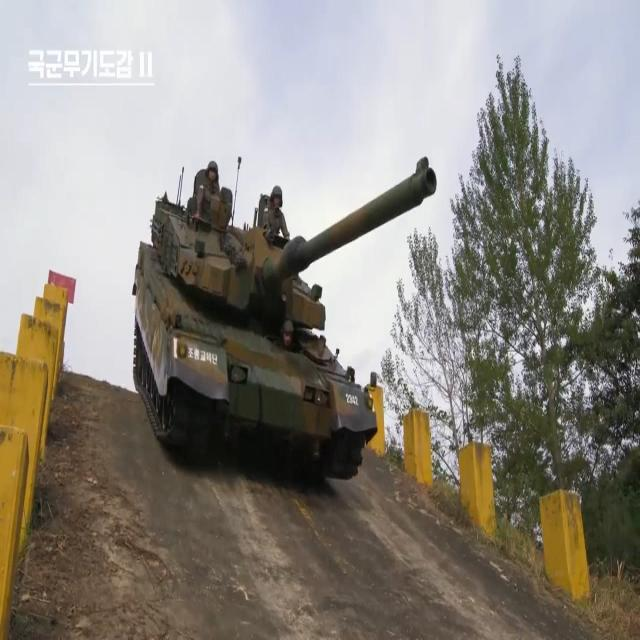korea tank: (129, 155, 439, 481)
